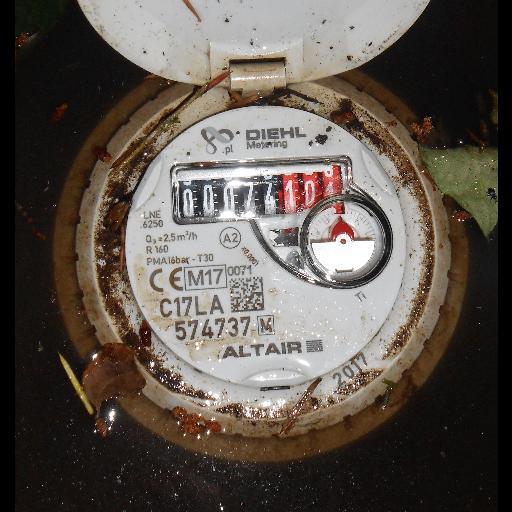0: (297, 171, 323, 213), (196, 179, 221, 218), (177, 180, 199, 219), (219, 178, 240, 217)
1: (277, 173, 300, 214), (319, 163, 344, 199)
4: (258, 175, 279, 215)
7: (236, 176, 260, 216)
border_water_meter_number: (169, 153, 352, 226)
